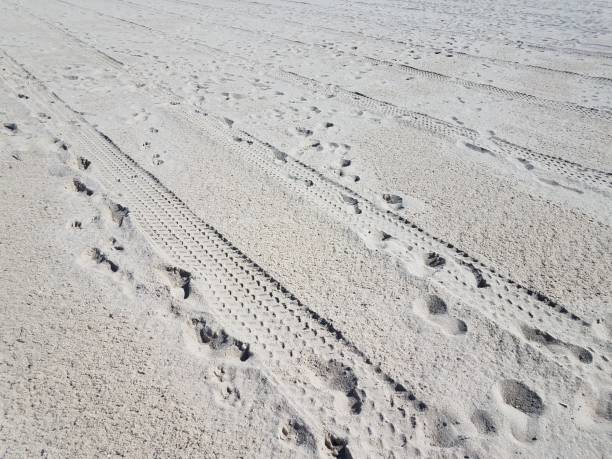human_footprint: (300, 344, 386, 420), (518, 328, 598, 376), (485, 374, 541, 438), (57, 226, 118, 282), (410, 284, 467, 338), (194, 311, 240, 362), (268, 402, 312, 448), (394, 244, 458, 273), (205, 358, 241, 408), (157, 260, 194, 301), (535, 176, 586, 202), (374, 180, 410, 214), (335, 189, 368, 224), (458, 135, 492, 166), (44, 134, 78, 160), (368, 226, 397, 253), (70, 173, 95, 204), (71, 154, 101, 178), (280, 121, 313, 142), (226, 130, 254, 153), (281, 175, 314, 194), (508, 152, 532, 176), (335, 155, 355, 181)
